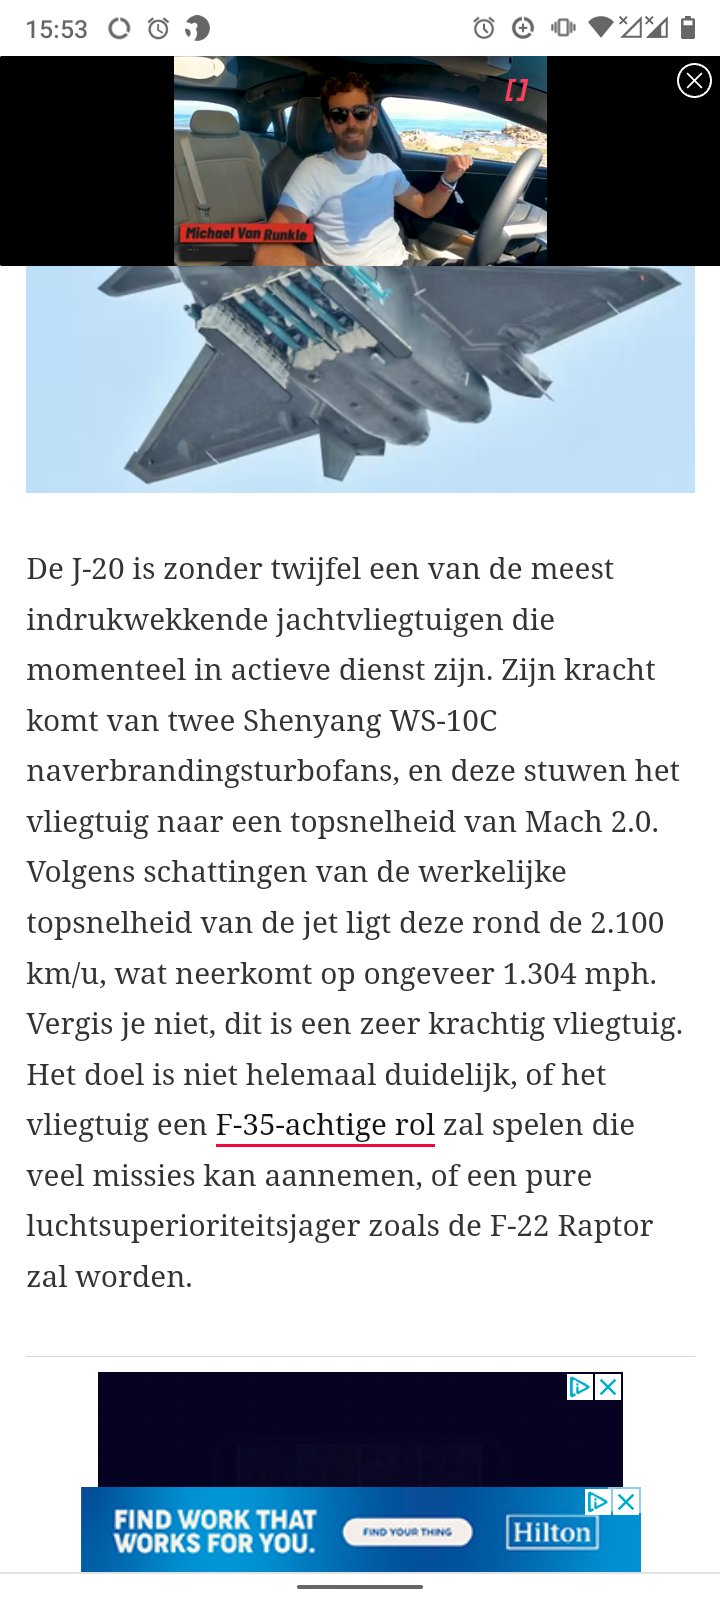J20: (96, 266, 683, 485)
